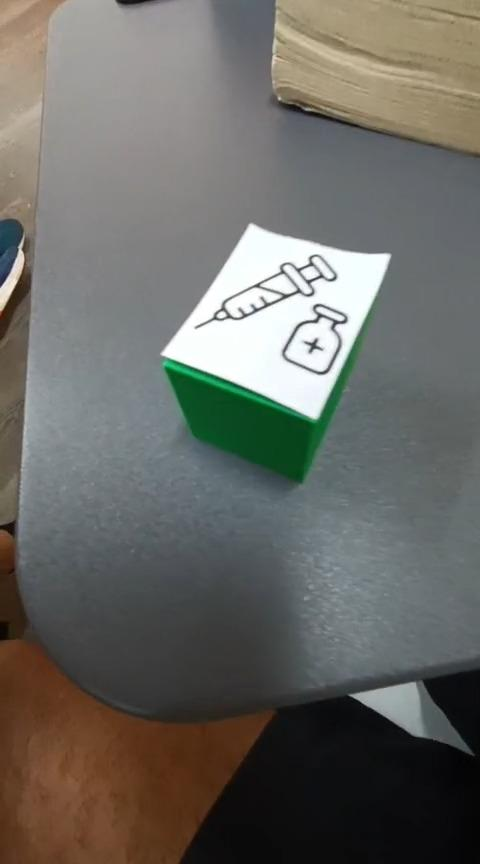antiseptic cream: (158, 220, 392, 484)
